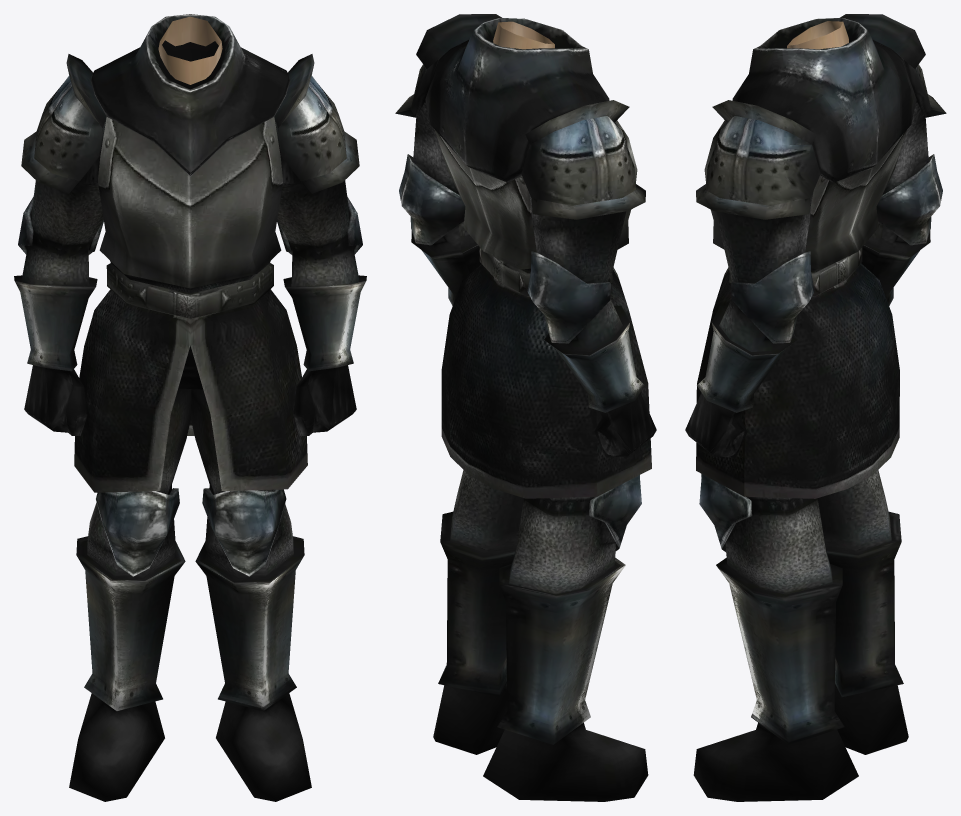
Rendered from KM_BOOTLEG_KNIGHT.glb.
3 renders of one model, left to right at view 1: azimuth 30°, elevation 25°; view 2: azimuth 150°, elevation 25°; view 3: azimuth 270°, elevation 25°, orthographic.
Parts seen in each view (by area): view 1: KM_BOOTLEG_KNIGHT; view 2: KM_BOOTLEG_KNIGHT; view 3: KM_BOOTLEG_KNIGHT.
Part boxes in pixels (x1,y1,x2,y2): KM_BOOTLEG_KNIGHT: (14, 14, 366, 801); KM_BOOTLEG_KNIGHT: (395, 14, 656, 801); KM_BOOTLEG_KNIGHT: (685, 14, 946, 801).
Bounding box in the file's own units: 0.6784 × 1.7 × 0.5431.
3 materials, 3 textured.
